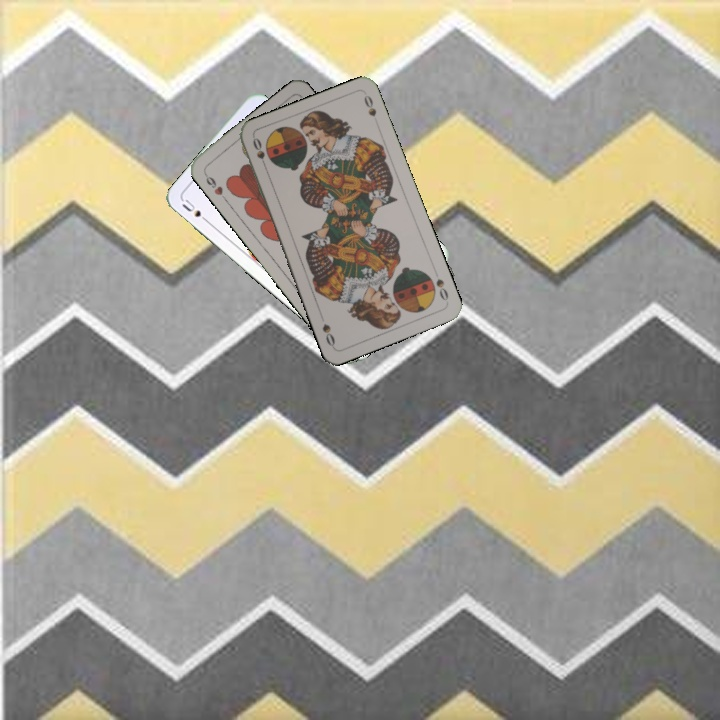H9: (200, 168, 229, 203)
SO: (249, 133, 270, 173), (432, 274, 451, 303)
SU: (178, 195, 213, 226)
